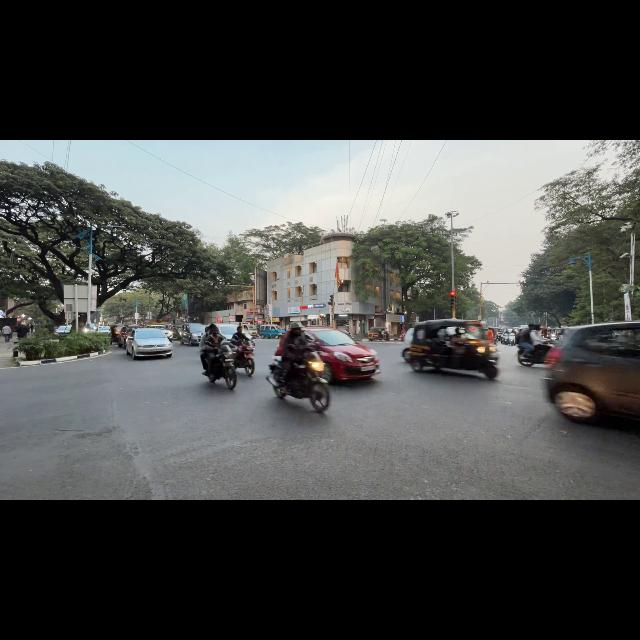car: (544, 322, 639, 421), (304, 327, 379, 381), (126, 328, 172, 359), (117, 325, 142, 347), (180, 323, 205, 345), (402, 328, 414, 362), (148, 325, 173, 341), (258, 324, 285, 338), (217, 324, 237, 340), (110, 324, 124, 343), (54, 326, 71, 337), (98, 326, 110, 333)
motorcycle: (267, 347, 329, 412), (208, 342, 236, 389), (518, 342, 553, 366), (234, 341, 254, 376), (509, 333, 516, 345), (501, 334, 508, 344)
